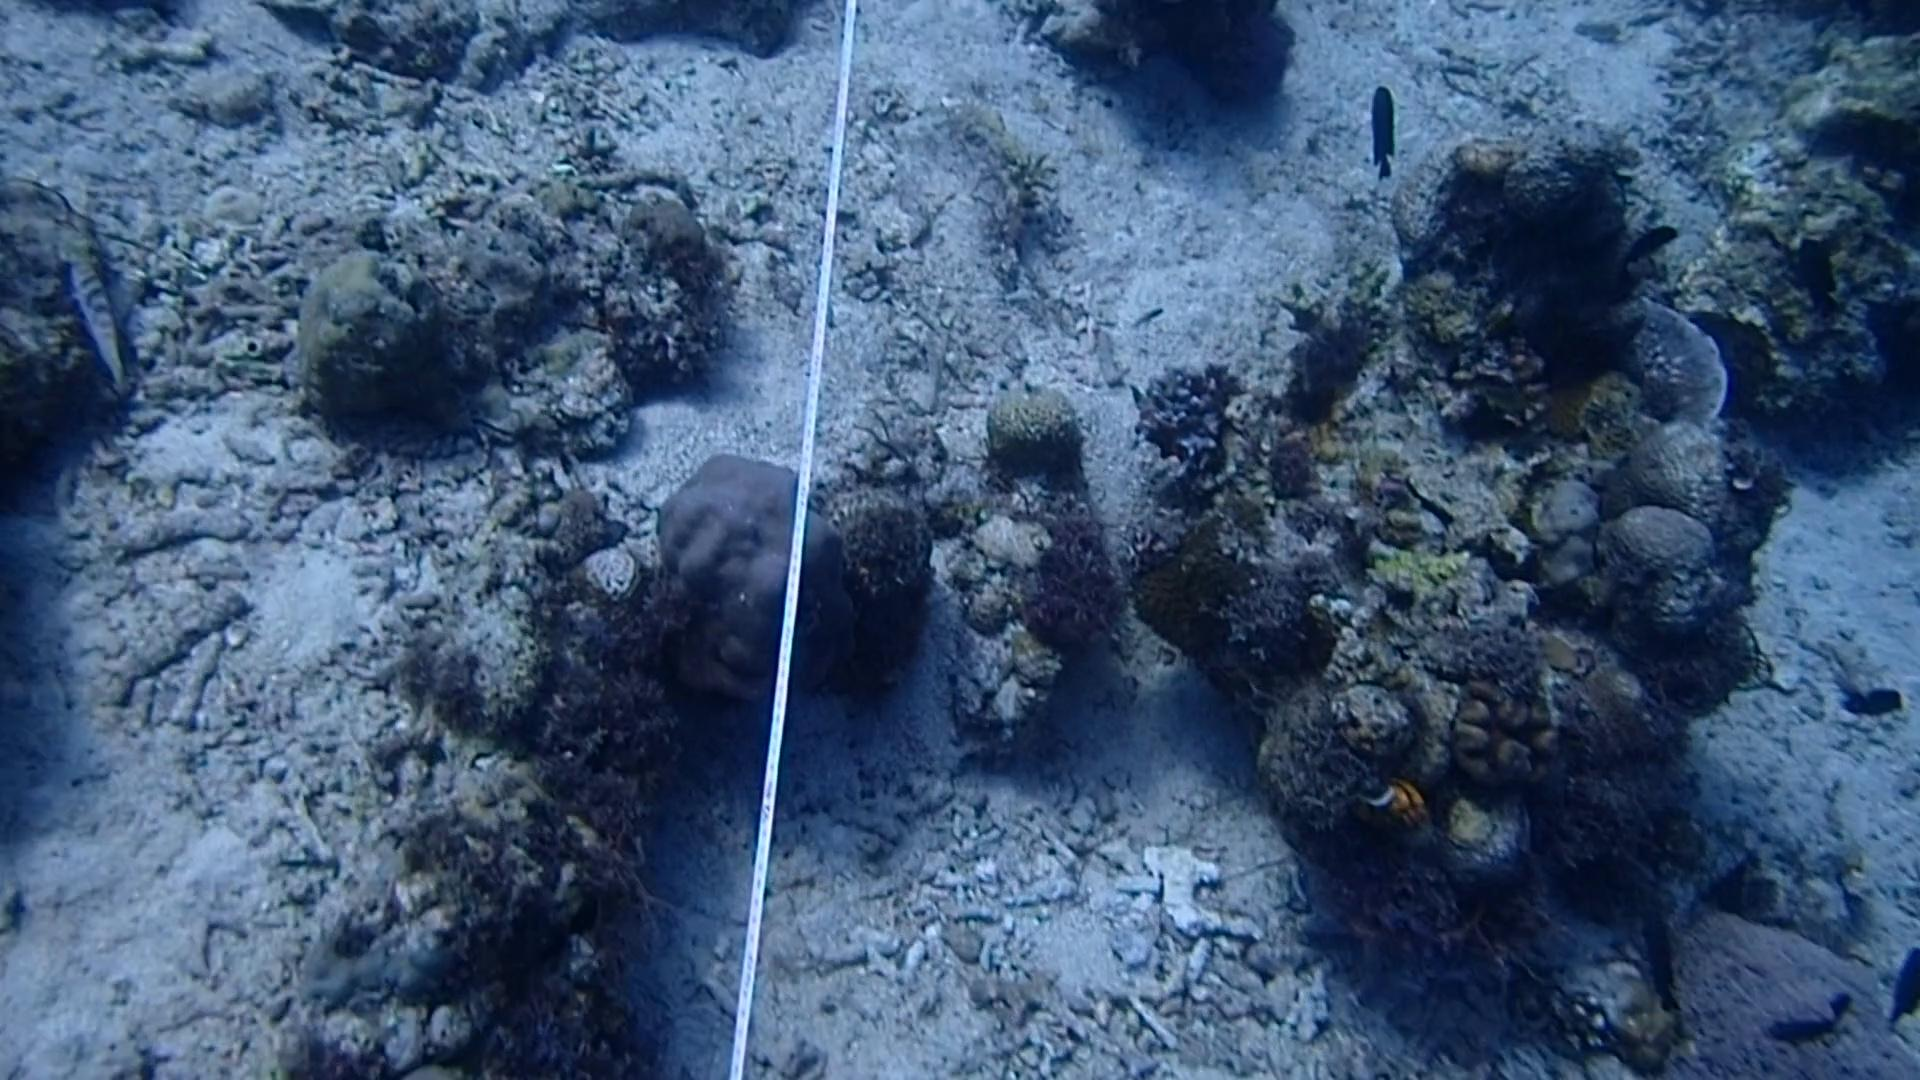Dark Fish: (1623, 901, 1700, 1017), (1756, 980, 1855, 1055), (1350, 73, 1414, 190), (1782, 227, 1858, 316), (1605, 206, 1688, 284), (1874, 932, 1920, 1044), (1830, 671, 1907, 727)
Light Fish w Back Stripes: (45, 249, 148, 392)
